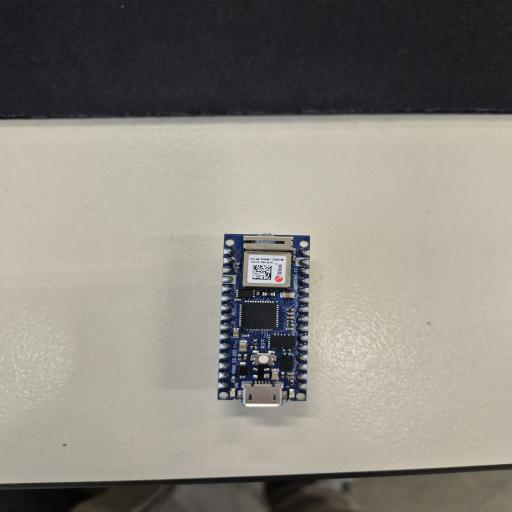arduino-nano-iot-33: (218, 234, 309, 406)
